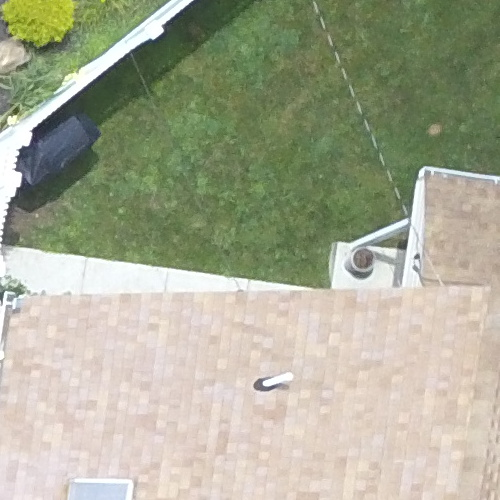flower pot: (335, 239, 379, 276)
